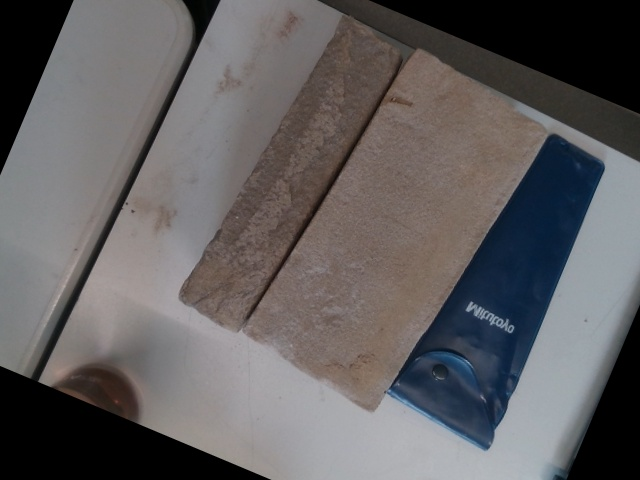brick: (241, 51, 547, 411)
